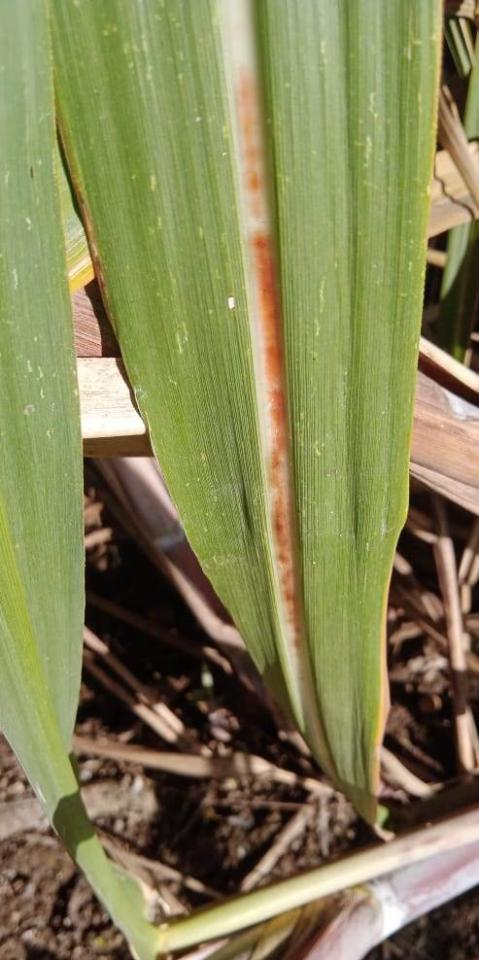RedRot: (229, 63, 305, 656)
